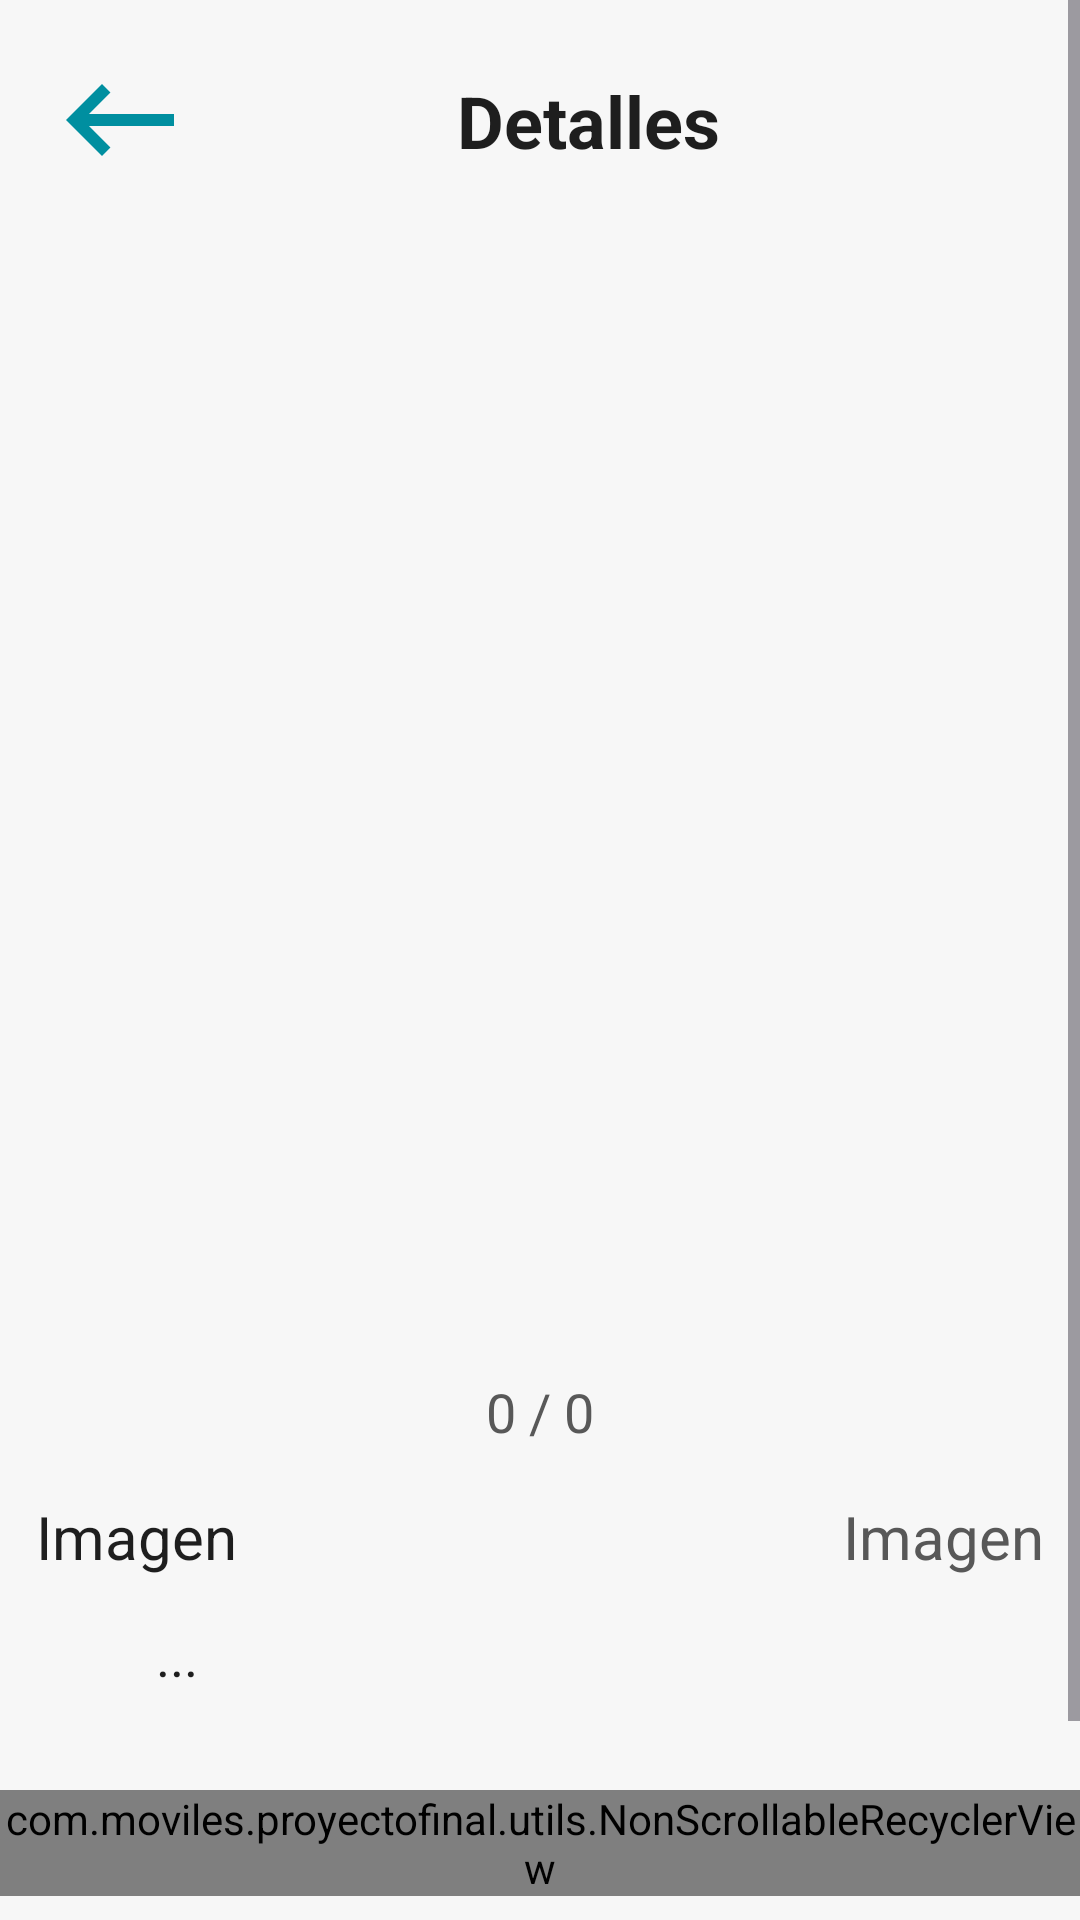

Where to tap for icons on this 1080 x 1920 app screen, as point (x, y):
back arrow: point (120, 120)
